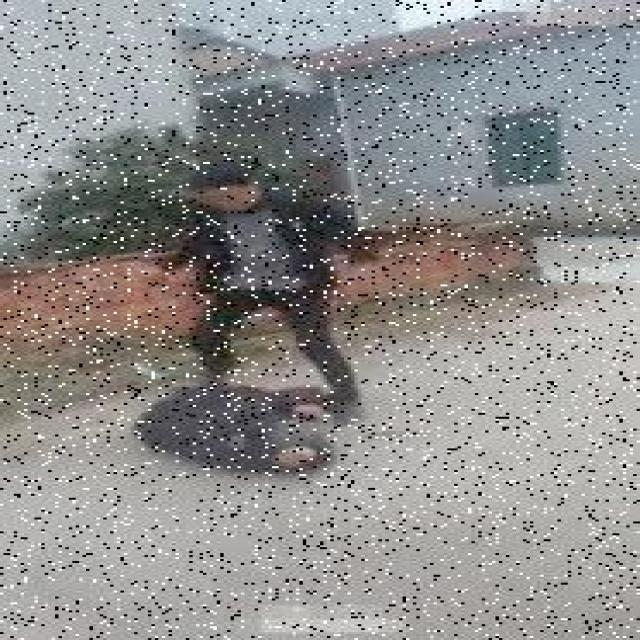fall: (117, 378, 330, 482)
